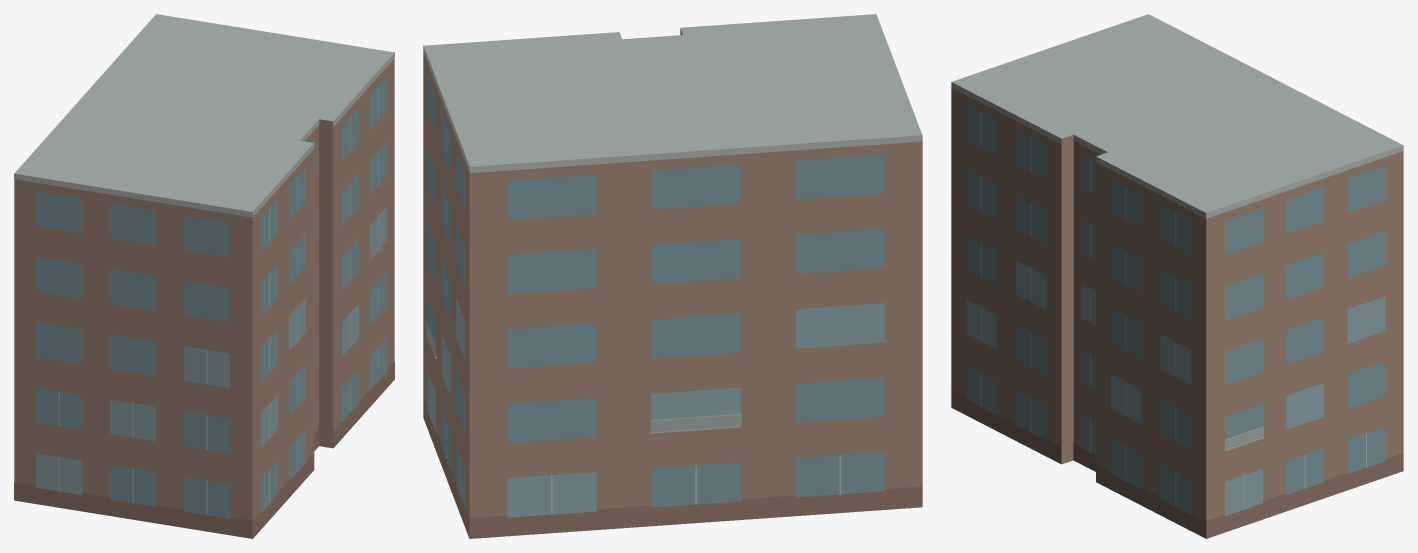
Rendered from survey-upis-32708016.glb.
3 renders of one model, left to right at view 1: azimuth 30°, elevation 25°; view 2: azimuth 150°, elevation 25°; view 3: azimuth 270°, elevation 25°, orthographic. The views are drawn at different scales.
Visible parts, largest first — view 1: survey-upis-32708016.tmp; view 2: survey-upis-32708016.tmp; view 3: survey-upis-32708016.tmp.
Part boxes in pixels (left/top/right/bottom): survey-upis-32708016.tmp: left=14, top=14, right=394, bottom=538; survey-upis-32708016.tmp: left=423, top=14, right=922, bottom=538; survey-upis-32708016.tmp: left=951, top=14, right=1403, bottom=538.
Bounding box in the file's own units: 18.63 × 14.2 × 17.88.
